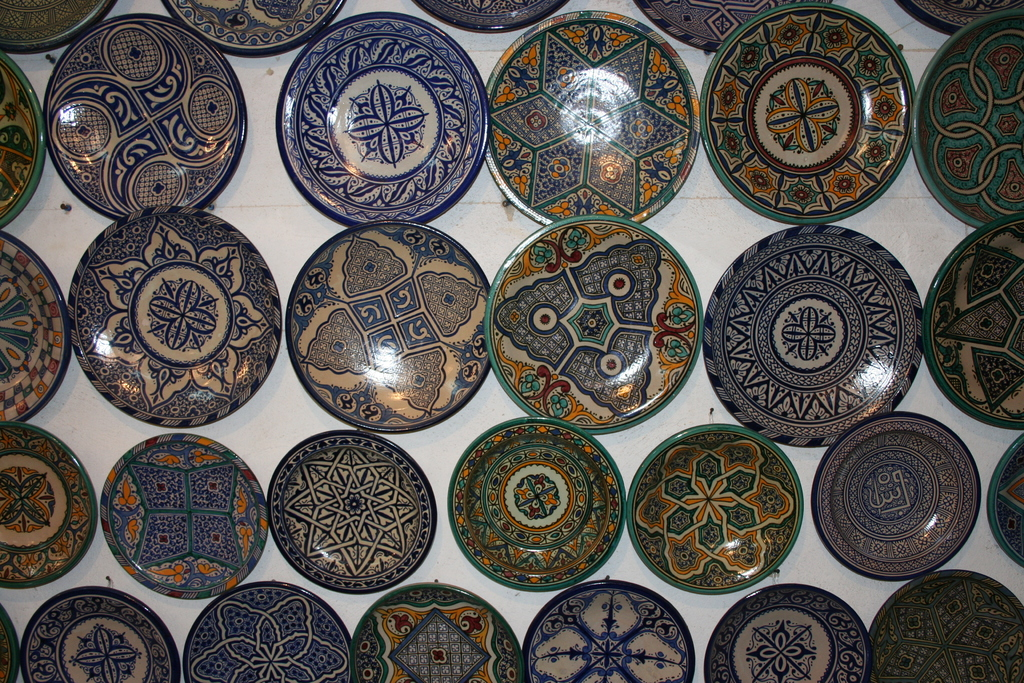plate: (625, 425, 805, 599)
